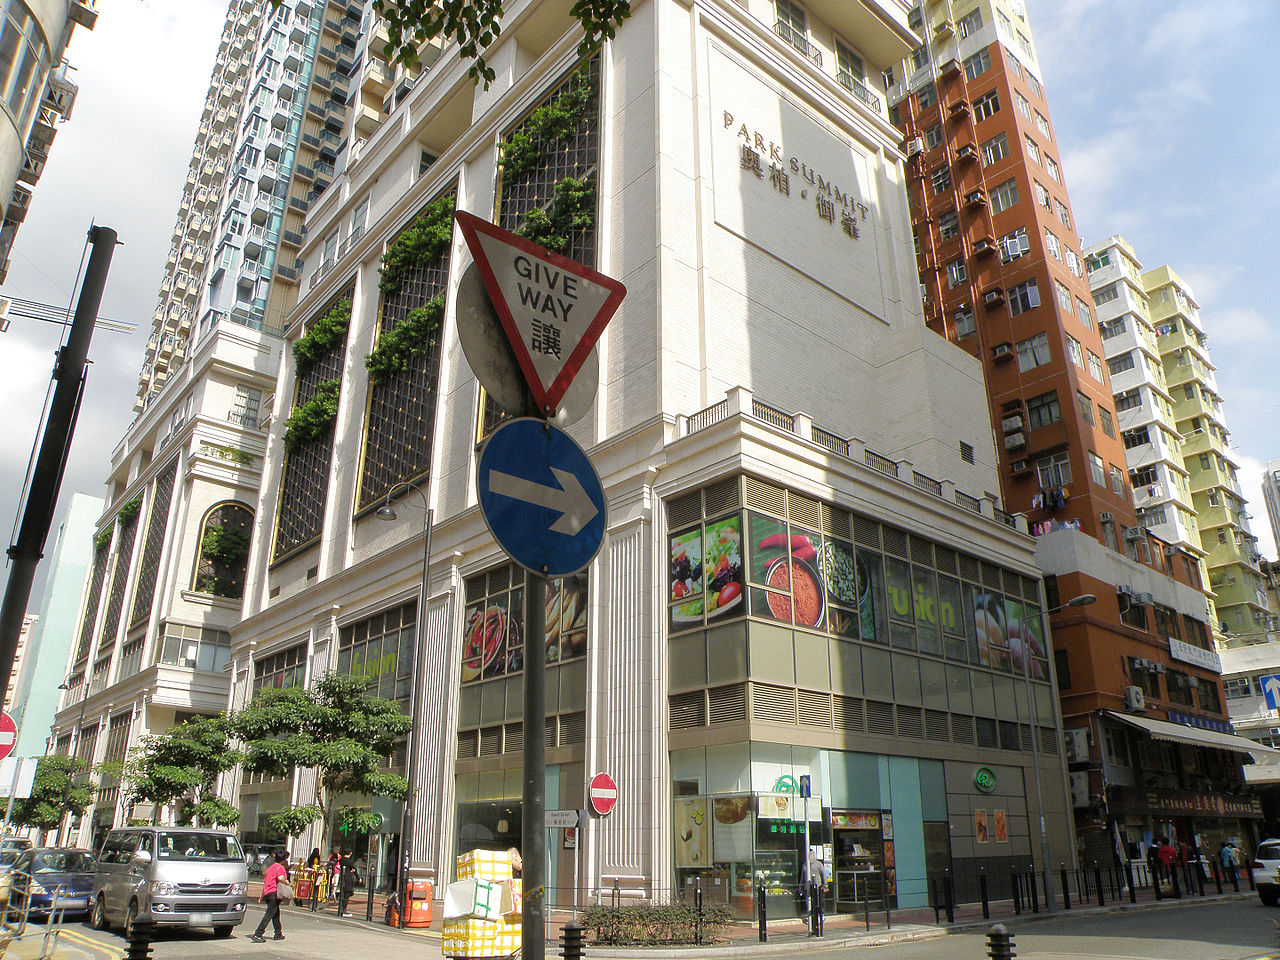Give Way: (450, 210, 630, 418)
Turn Right: (470, 422, 617, 578)
